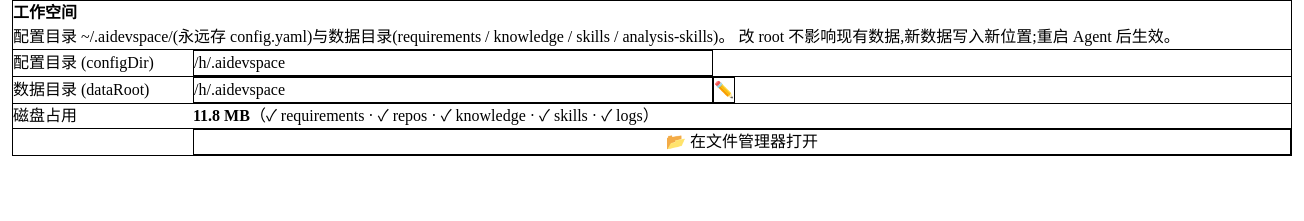
it: WorkspaceSection 行内编辑 v2 (ADR-0037 D5) › case 7: E_WS_ROOT_PATH_NOT_WORKSPACE → 黄边 + 文案
Click the button with test id "edit-workspace-root". click: [724, 90]
box: [713, 77, 735, 103]
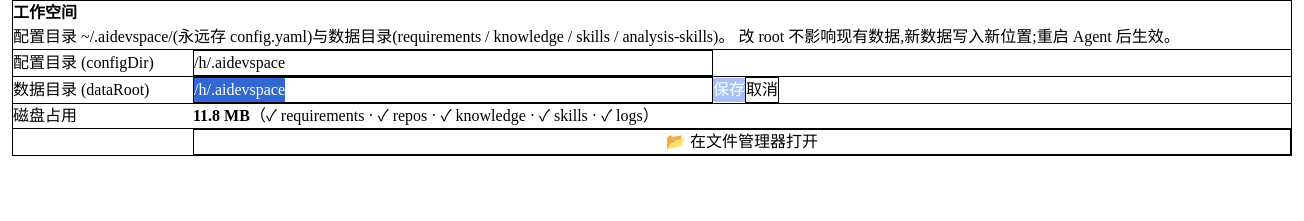
Replace the text in the field with test id "workspace-root" with "/some/random/dir". click: [453, 90]
box: [193, 77, 713, 103]
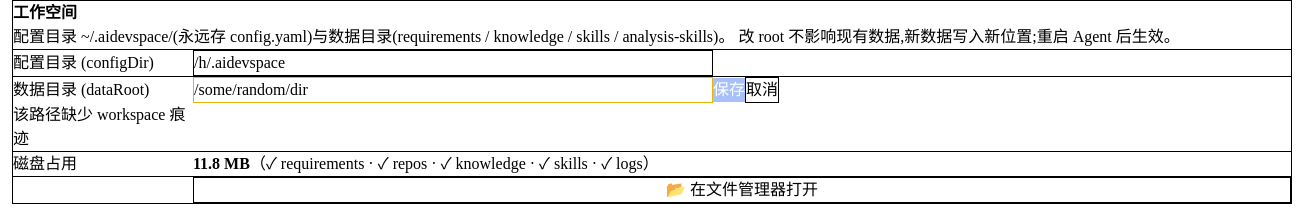
Check: the button with test id "save-workspace-root" is disabled, box [713, 78, 745, 102]
Check: the text with test id "workspace-validation-message" shows "workspace 痕迹", box [13, 106, 185, 147]
